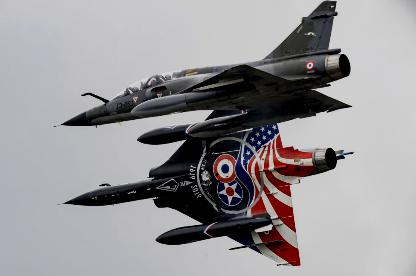Mirage2000: (58, 110, 356, 266), (54, 0, 354, 138)
